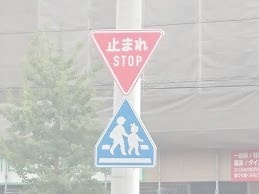Regulatory_sign_triangle: (88, 23, 165, 105)
